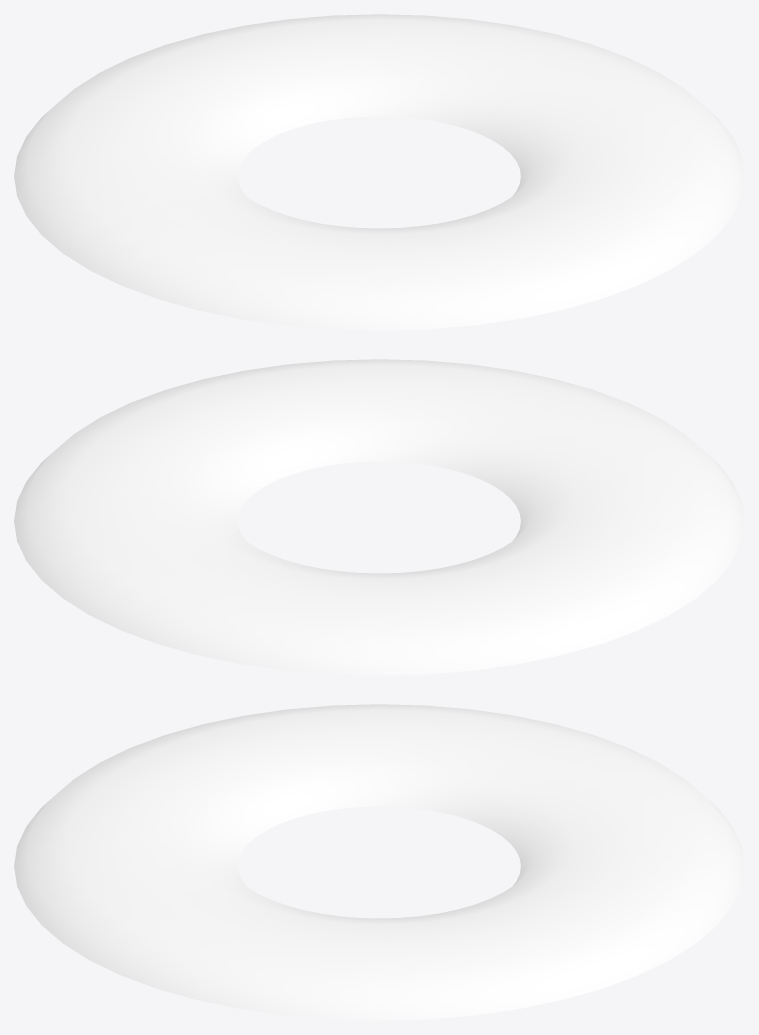
File: wave.glb
The picture shows the model from 3 angles, top to bottom: view 1: azimuth 30°, elevation 25°; view 2: azimuth 150°, elevation 25°; view 3: azimuth 270°, elevation 25°; orthographic projection.
Parts seen in each view (by area): view 1: Torus; view 2: Torus; view 3: Torus.
Part boxes in pixels (bbox=[...]): Torus: bbox=[14, 14, 744, 330]; Torus: bbox=[14, 359, 744, 675]; Torus: bbox=[14, 704, 744, 1020].
Bounding box in the file's own units: 2.02 × 0.0858 × 2.02.
Materials: 1 (1 with a texture image).
